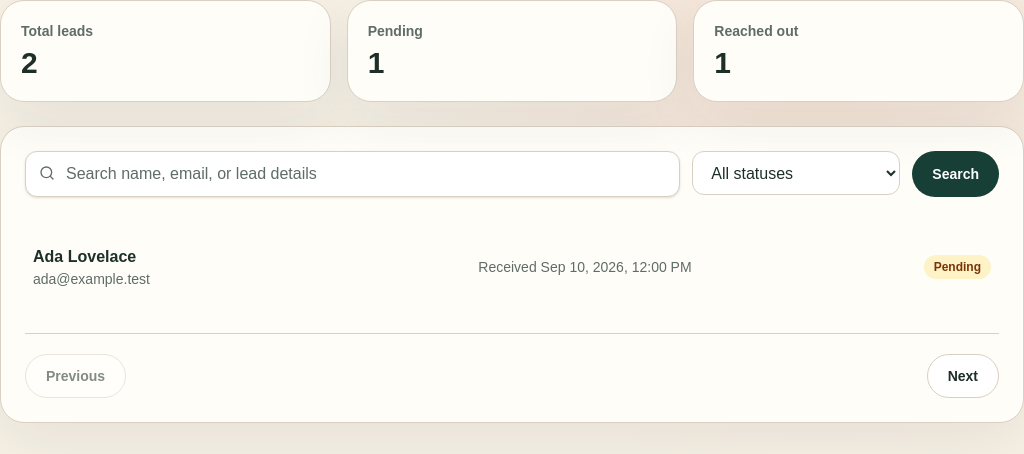
Test: lead list › sends body search and status filters and follows cursor pagination
This screenshot has width=1024, height=454.
Expected: the text "Ada Lovelace" is shown, x1=33 y1=248 x2=136 y2=265
Type "contract" into the field with placeholder "Search name, email, or lead details".
click(353, 174); type("contract")  # box x1=25 y1=151 x2=680 y2=197
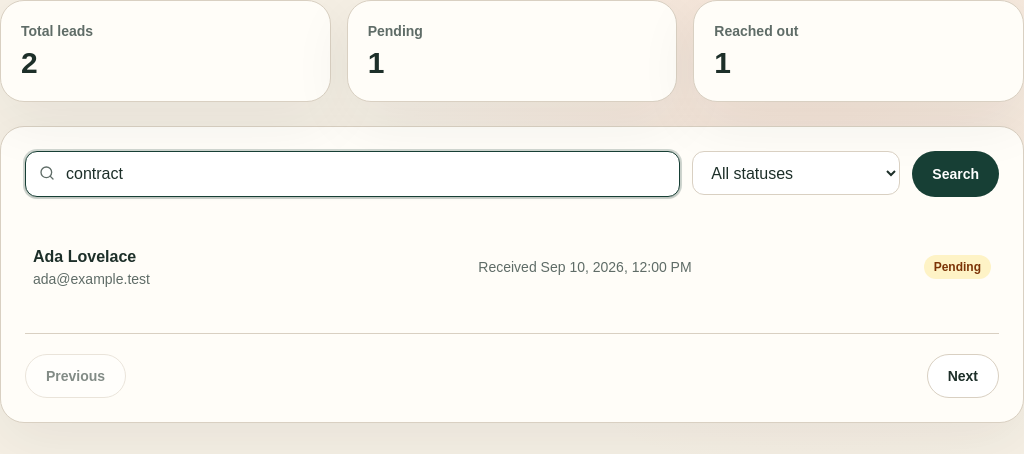
Select "Pending" in the dropdown named "Filter by status" at (796,173), box x1=692 y1=151 x2=900 y2=195
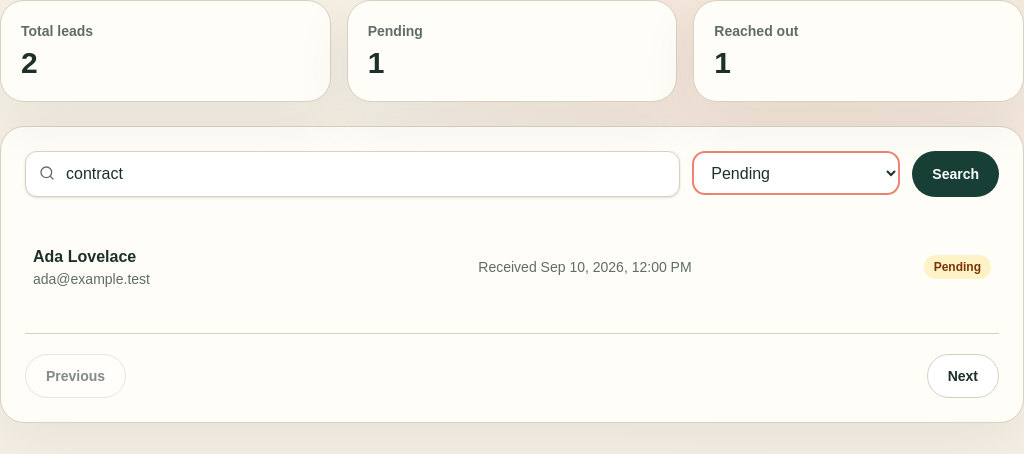
Click the button "Search".
click(956, 174)  # box x1=912 y1=151 x2=999 y2=197
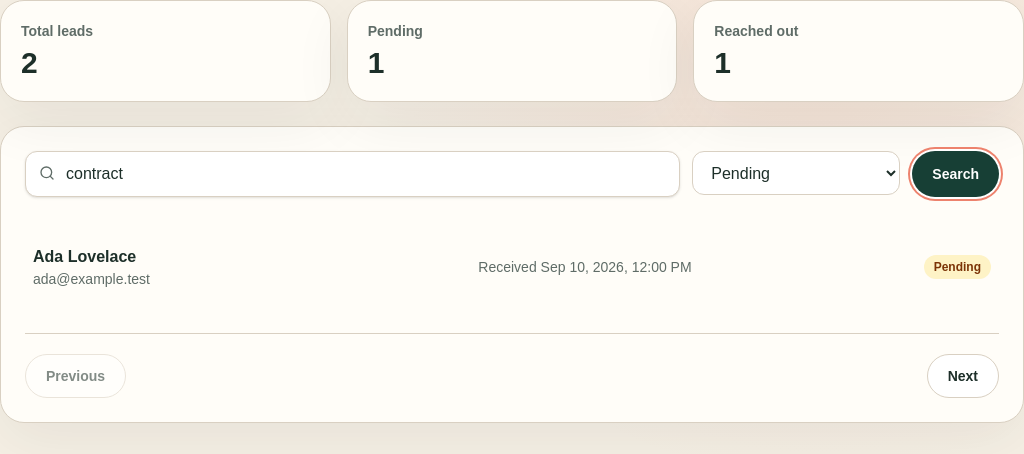
Click the button "Next".
click(963, 376)  # box x1=927 y1=354 x2=999 y2=398
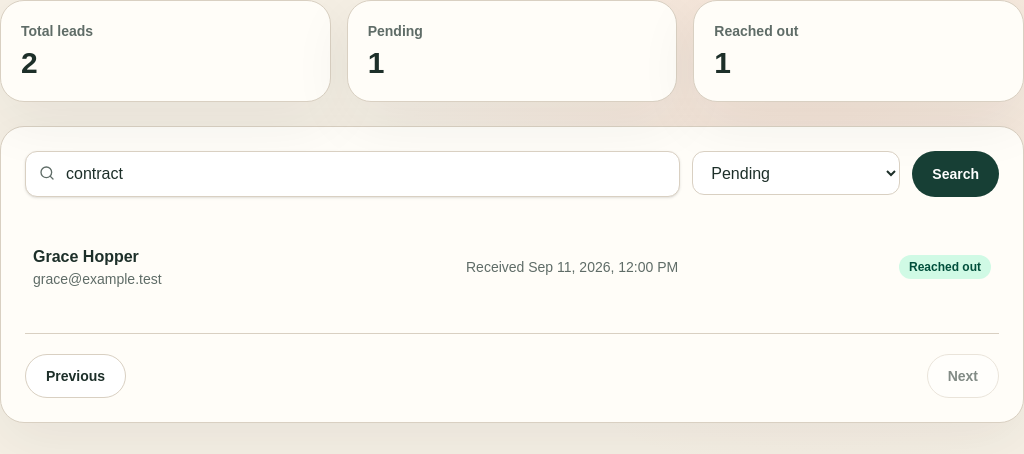
Expected: the text "Grace Hopper" is shown, x1=33 y1=248 x2=139 y2=265
Click the button "Previous".
click(76, 376)  # box x1=25 y1=354 x2=126 y2=398
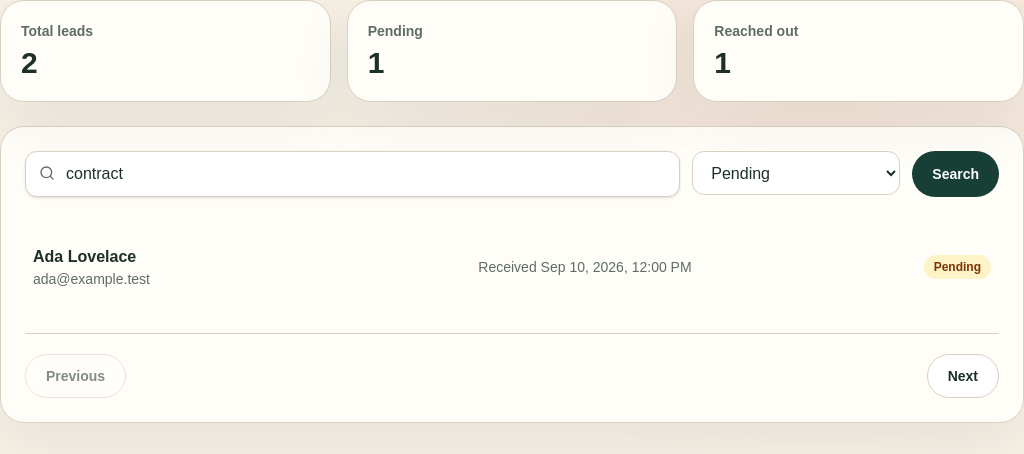
Expected: the text "Ada Lovelace" is shown, x1=33 y1=248 x2=136 y2=265
